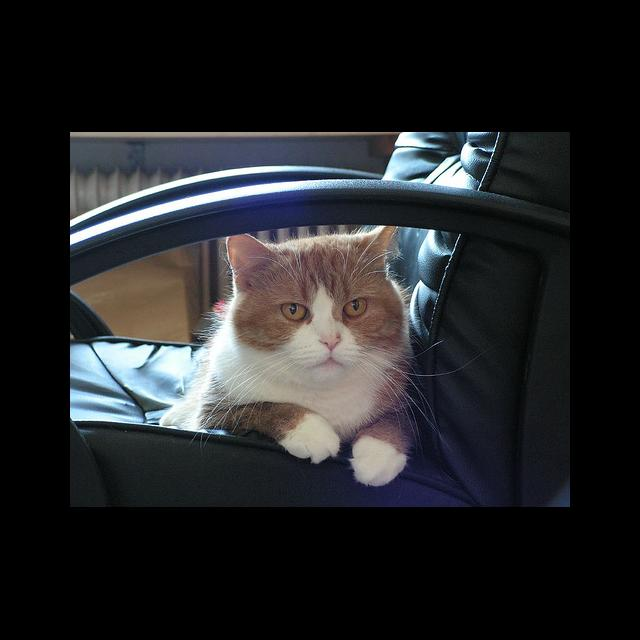animals: (234, 214, 394, 350)
